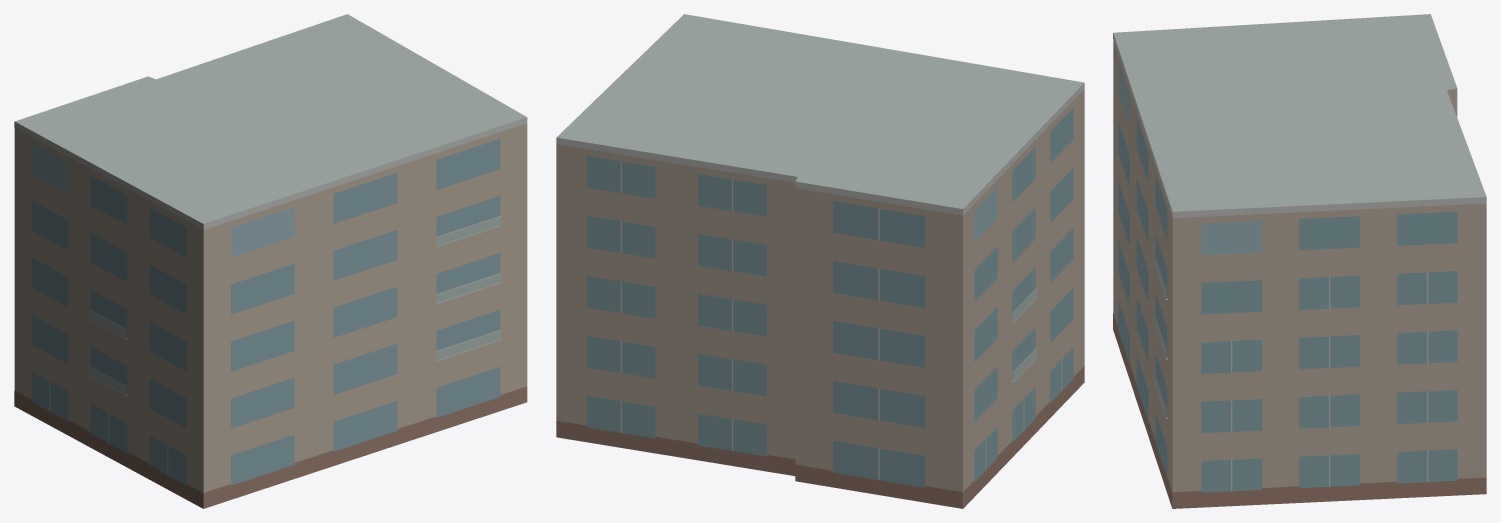
The model's file is survey-upis-32633136.glb.
3 renders of one model, left to right at view 1: azimuth 30°, elevation 25°; view 2: azimuth 150°, elevation 25°; view 3: azimuth 270°, elevation 25°, orthographic. The views are drawn at different scales.
Parts seen in each view (by area): view 1: survey-upis-32633136.tmp; view 2: survey-upis-32633136.tmp; view 3: survey-upis-32633136.tmp.
Boxes of the visible parts, left/top/right/bottom form: survey-upis-32633136.tmp: left=14, top=14, right=527, bottom=508; survey-upis-32633136.tmp: left=556, top=14, right=1084, bottom=508; survey-upis-32633136.tmp: left=1113, top=14, right=1486, bottom=508.
Size of the model in its own units: 16.3 by 11.4 by 13.
